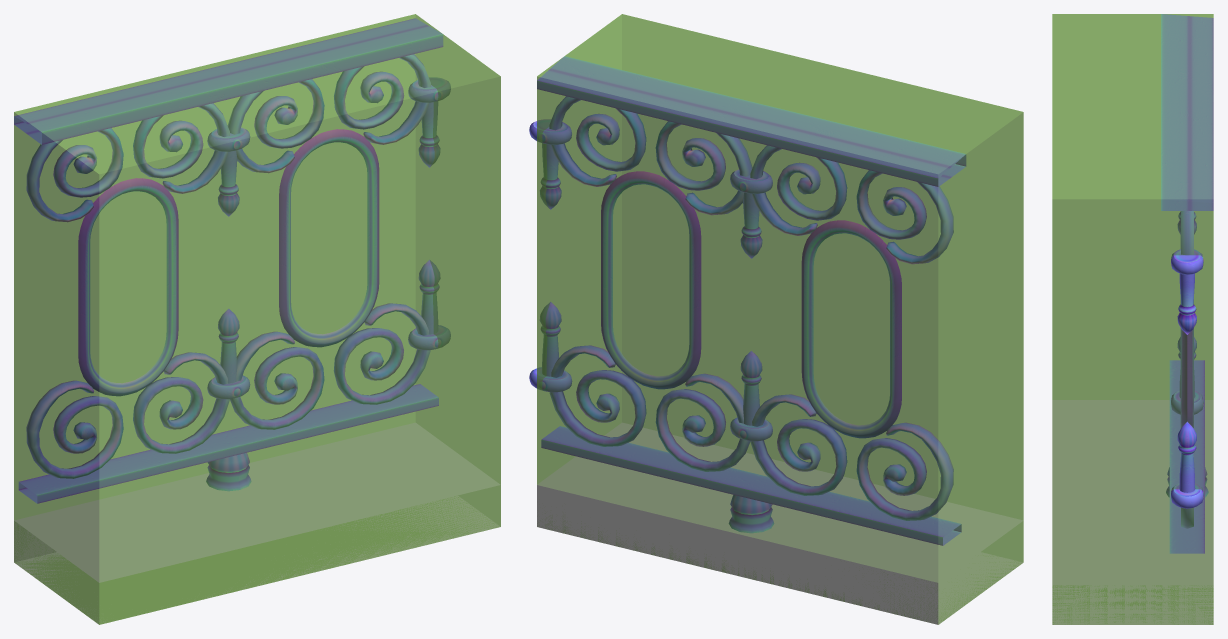
Rendered from F_md_Balcony_S_mid_04.fbx.
3 renders of one model, left to right at view 1: azimuth 30°, elevation 25°; view 2: azimuth 150°, elevation 25°; view 3: azimuth 270°, elevation 25°, orthographic. The views are drawn at different scales.
Parts seen in each view (by area): view 1: F_md_Balcony_S_mid_04_col_01, F_md_Balcony_S_mid_04_LOD0; view 2: F_md_Balcony_S_mid_04_col_01, F_md_Balcony_S_mid_04_LOD0; view 3: F_md_Balcony_S_mid_04_col_01, F_md_Balcony_S_mid_04_LOD0.
Boxes of the visible parts, box(x1,y1,x2,y2) form: F_md_Balcony_S_mid_04_col_01: box(14, 14, 500, 624); F_md_Balcony_S_mid_04_LOD0: box(14, 18, 500, 624); F_md_Balcony_S_mid_04_col_01: box(537, 14, 1023, 624); F_md_Balcony_S_mid_04_LOD0: box(529, 56, 1023, 624); F_md_Balcony_S_mid_04_col_01: box(1052, 14, 1213, 624); F_md_Balcony_S_mid_04_LOD0: box(1052, 14, 1213, 624).
Size of what is drawn, in the model's own units: 105 by 107 by 36.79.
